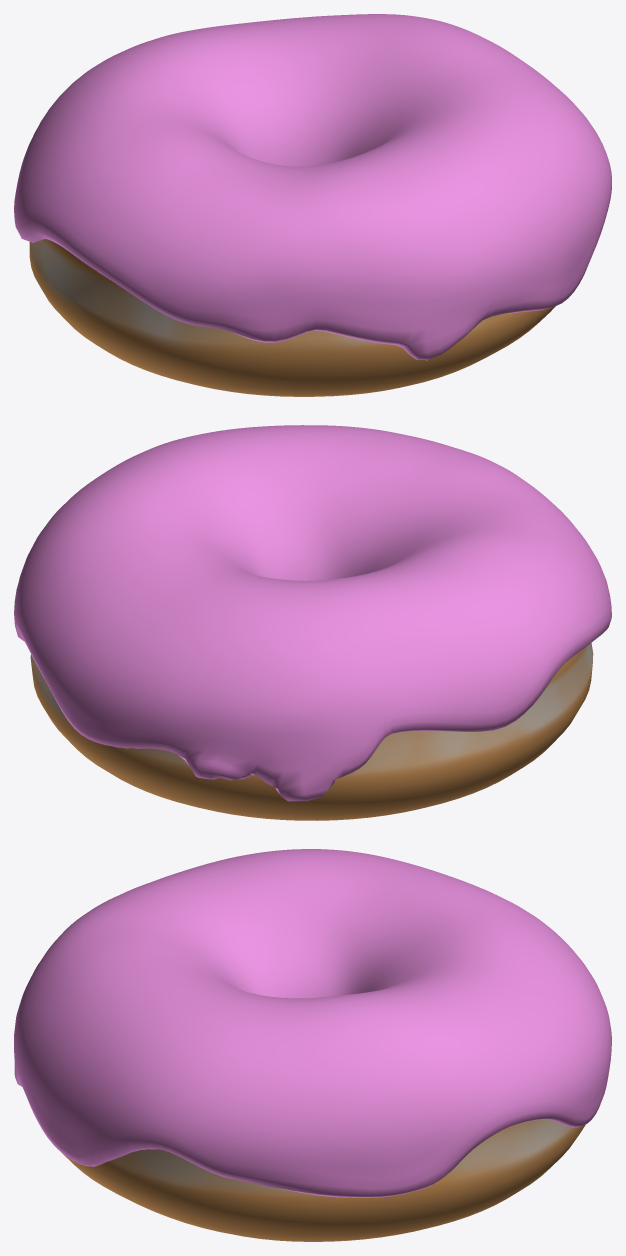
File: donut.glb
3 renders of one model, top to bottom at view 1: azimuth 30°, elevation 25°; view 2: azimuth 150°, elevation 25°; view 3: azimuth 270°, elevation 25°, orthographic.
Visible parts, largest first — view 1: Icing, Donut; view 2: Icing, Donut; view 3: Icing, Donut.
Boxes of the visible parts, x1,y1,x2,y2 form: Icing: (14, 14, 611, 360); Donut: (29, 239, 555, 396); Icing: (14, 425, 611, 801); Donut: (30, 643, 593, 820); Icing: (14, 849, 611, 1197); Donut: (63, 1119, 585, 1241).
Bounding box in the file's own units: 0.0955 × 0.0399 × 0.0958.
2 materials, 1 textured.
